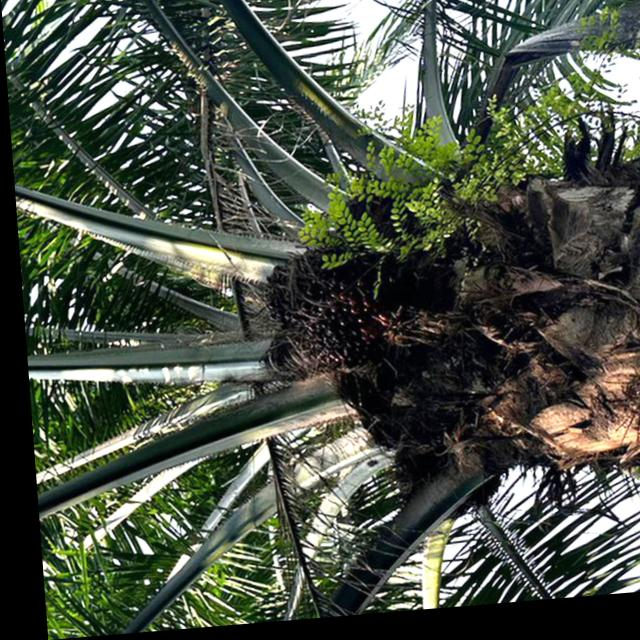unripe: (272, 241, 430, 391)
